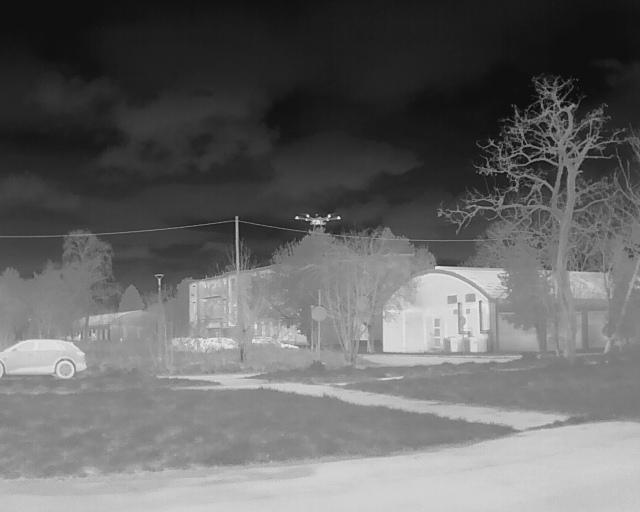drone: (292, 210, 343, 242)
